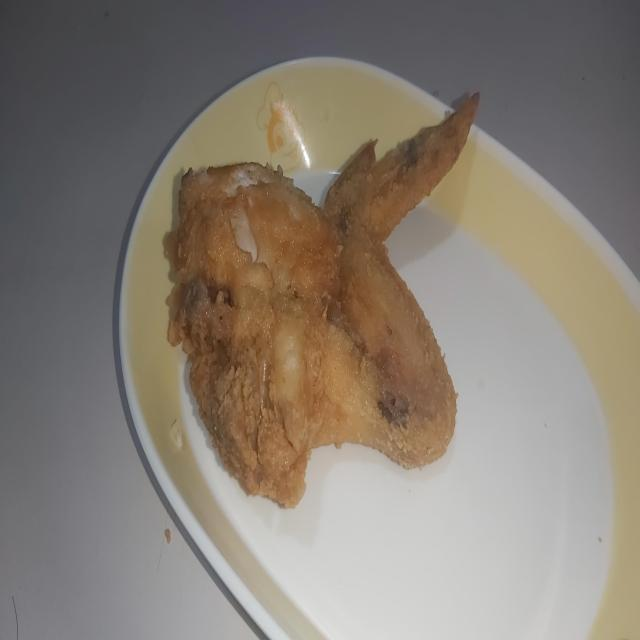Chicken -Fried Chicken-: (162, 113, 490, 545)
